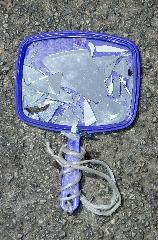glass: (21, 36, 137, 126)
